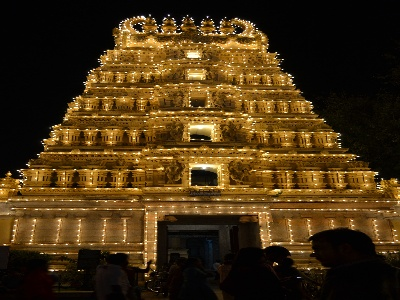gopura: (9, 13, 390, 219)
